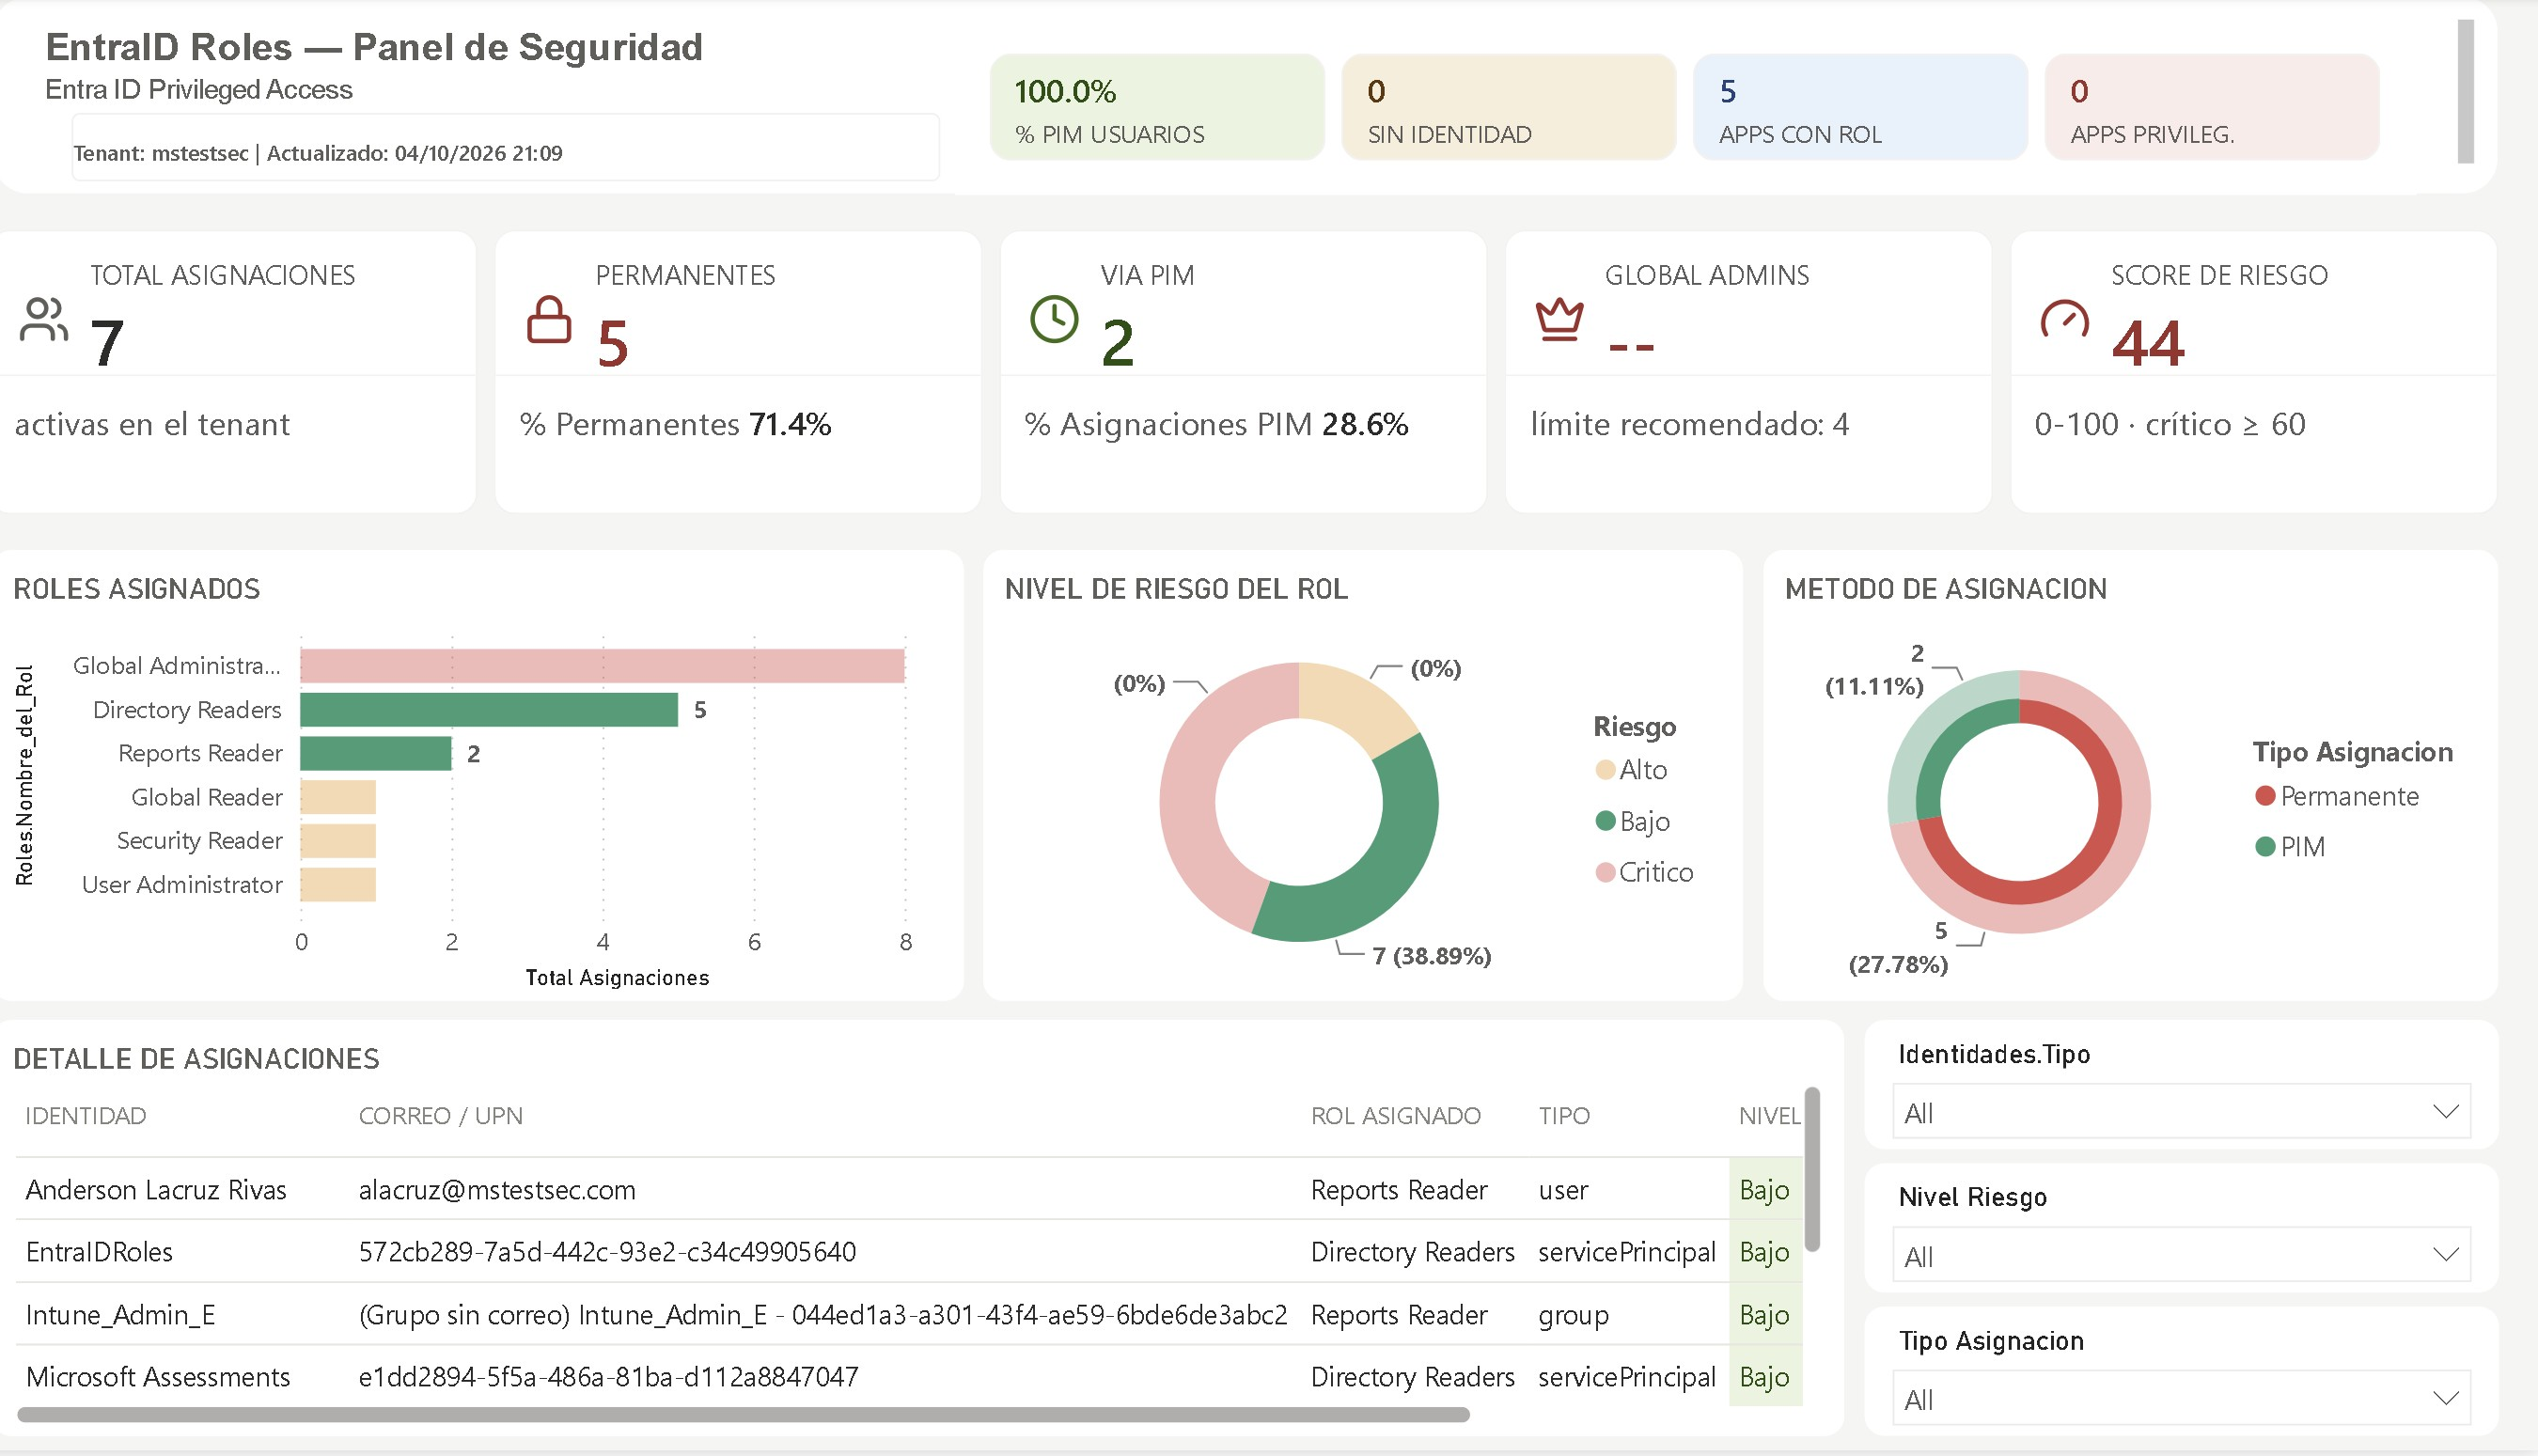

This screenshot's page, from the dashboard's own definition file:
{"tool":"powerbi","page":{"name":"Asignaciones privilegiadas","canvas":[1280,720],"ordinal":0},"visuals":[{"type":"textbox","box":[18.6,0,1240.7,98.8],"z":0},{"type":"cardVisual","fields":{"Data":["Reporte_Final.Total Asignaciones","Reporte_Final.Asignaciones Permanentes","Reporte_Final.Asignaciones PIM","Reporte_Final.Global Admins","Reporte_Final.Score de Riesgo"]},"box":[0,98.8,1280.2,175.6],"z":1000},{"type":"clusteredBarChart","title":"ROLES ASIGNADOS","fields":{"Category":["Reporte_Final.Roles.Nombre_del_Rol"],"Y":["Reporte_Final.Total Asignaciones"]},"box":[18.6,274.4,481,223.3],"z":2000},{"type":"donutChart","title":"NIVEL DE RIESGO DEL ROL","fields":{"Category":["Reporte_Final.Nivel Riesgo Rol"],"Y":["Reporte_Final.Total Asignaciones"]},"box":[509.6,274.4,376,223.3],"z":3000},{"type":"donutChart","title":"METODO DE ASIGNACION","fields":{"Category":["Reporte_Final.Tipo Asignacion"],"Y":["Reporte_Final.Total Asignaciones"]},"box":[895.6,274.4,363.7,223.3],"z":4000},{"type":"tableEx","title":"DETALLE DE ASIGNACIONES","fields":{"Values":["Reporte_Final.Identidades.Nombre","Reporte_Final.Identidades.UPN_o_Correo","Reporte_Final.Roles.Nombre_del_Rol","Reporte_Final.Identidades.Tipo","Reporte_Final.Nivel Riesgo Rol","Reporte_Final.Asignacion Vista","Reporte_Final.Total Asignaciones"]},"box":[18.6,507,916.7,206],"z":5000},{"type":"slicer","fields":{"Values":["Reporte_Final.Identidades.Tipo"]},"box":[945.3,507,314,64],"z":6000},{"type":"slicer","fields":{"Values":["Reporte_Final.Nivel Riesgo Rol"]},"box":[945.3,578,314,64],"z":7000},{"type":"slicer","fields":{"Values":["Reporte_Final.Tipo Asignacion"]},"box":[945.3,649,314,64],"z":8000},{"type":"cardVisual","fields":{"Data":["Reporte_Final.% Cobertura PIM","Reporte_Final.Roles sin Identidad","Reporte_Final.Apps Con Rol","Reporte_Final.Apps Con Rol Privilegiado"]},"box":[495.4,11.6,723.3,87.2],"z":9000},{"type":"cardVisual","fields":{"Data":["_Config.Info_Tenant"]},"box":[58,58,430,34],"z":10000}]}

Visuals, with their boxes in screenshot pixels (x1, y1, x2, y2), scaled from the page's 1280x720 canvas onto the 2538x1456 screenshot:
textbox: box=[37, 0, 2497, 200]
cardVisual - Reporte_Final.Total Asignaciones x Reporte_Final.Asignaciones Permanentes: box=[0, 200, 2537, 555]
"ROLES ASIGNADOS" clusteredBarChart: box=[37, 555, 991, 1007]
"NIVEL DE RIESGO DEL ROL" donutChart: box=[1010, 555, 1756, 1007]
"METODO DE ASIGNACION" donutChart: box=[1776, 555, 2497, 1007]
"DETALLE DE ASIGNACIONES" tableEx: box=[37, 1025, 1855, 1442]
slicer - Reporte_Final.Identidades.Tipo: box=[1874, 1025, 2497, 1154]
slicer - Reporte_Final.Nivel Riesgo Rol: box=[1874, 1169, 2497, 1298]
slicer - Reporte_Final.Tipo Asignacion: box=[1874, 1312, 2497, 1442]
cardVisual - Reporte_Final.% Cobertura PIM x Reporte_Final.Roles sin Identidad: box=[982, 23, 2417, 200]
cardVisual - _Config.Info_Tenant: box=[115, 117, 967, 186]
